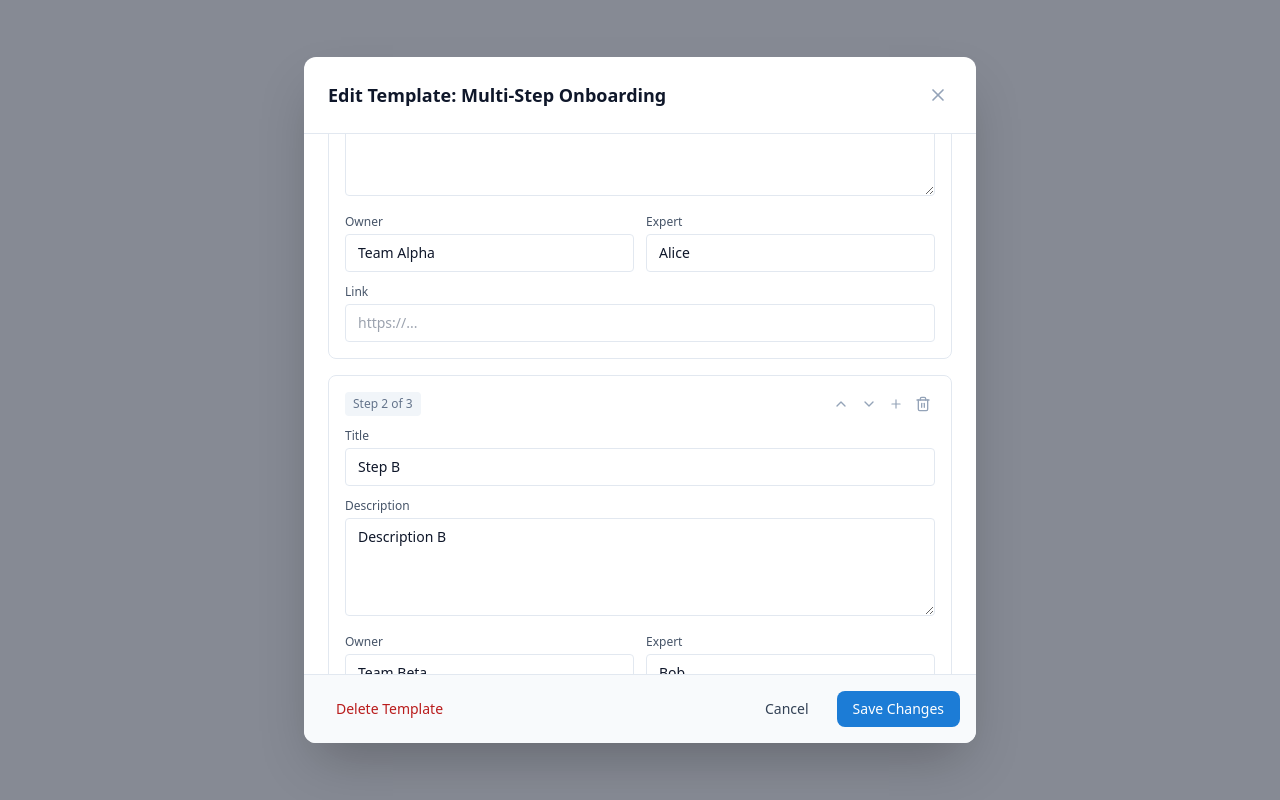
it: TemplateModal › TemplateModal - step insertion › should show correct step numbers after insertion
(page scrolled)
expect the field showing "Step B" is shown: met, box [345, 448, 935, 486]
Click the button named "Insert new step after step 2" at {"x": 896, "y": 404}, box [885, 393, 907, 415]
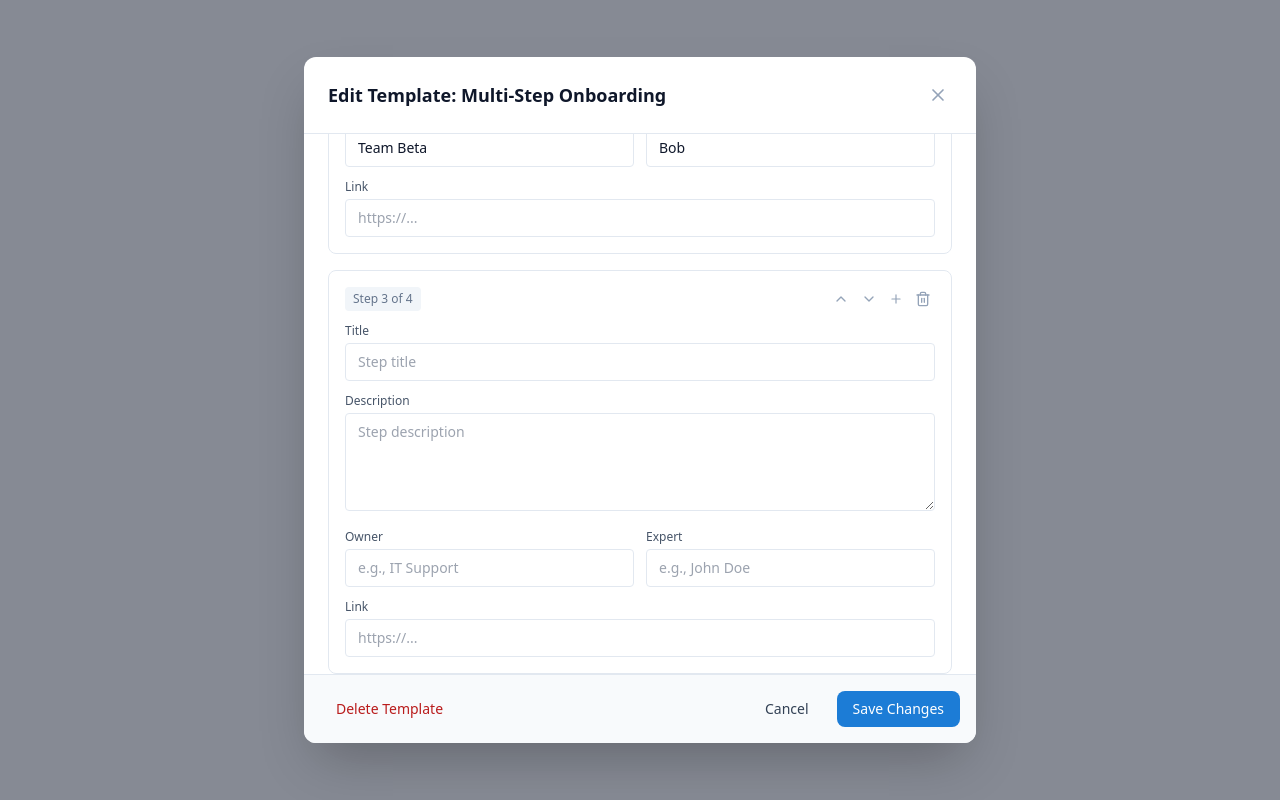
expect the text "Step 3 of 4" is shown: met, box [345, 287, 421, 311]
